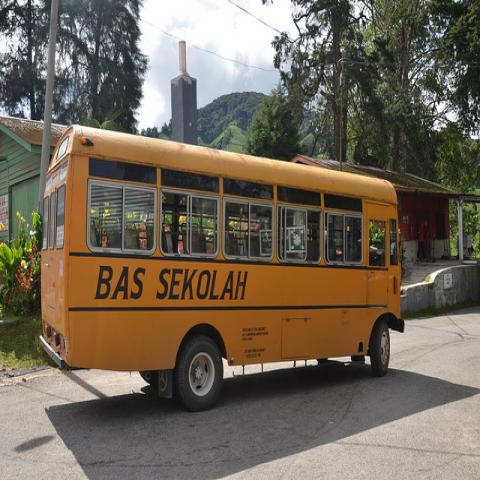bus: (42, 122, 404, 411)
